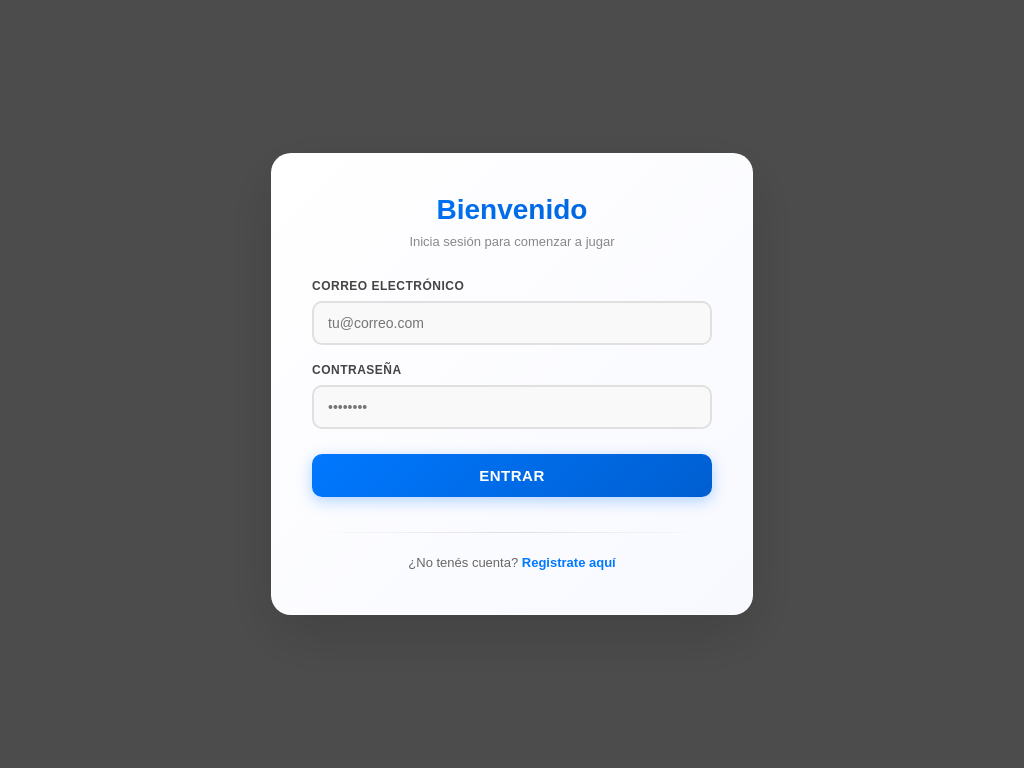
Test: ModalUsuario (Login/Registro) › muestra mensaje de error si los campos de login están vacíos al intentar iniciar sesión
The width and height of the screenshot is (1024, 768).
Click the button "Entrar" at (512, 476), box x1=312 y1=454 x2=712 y2=497
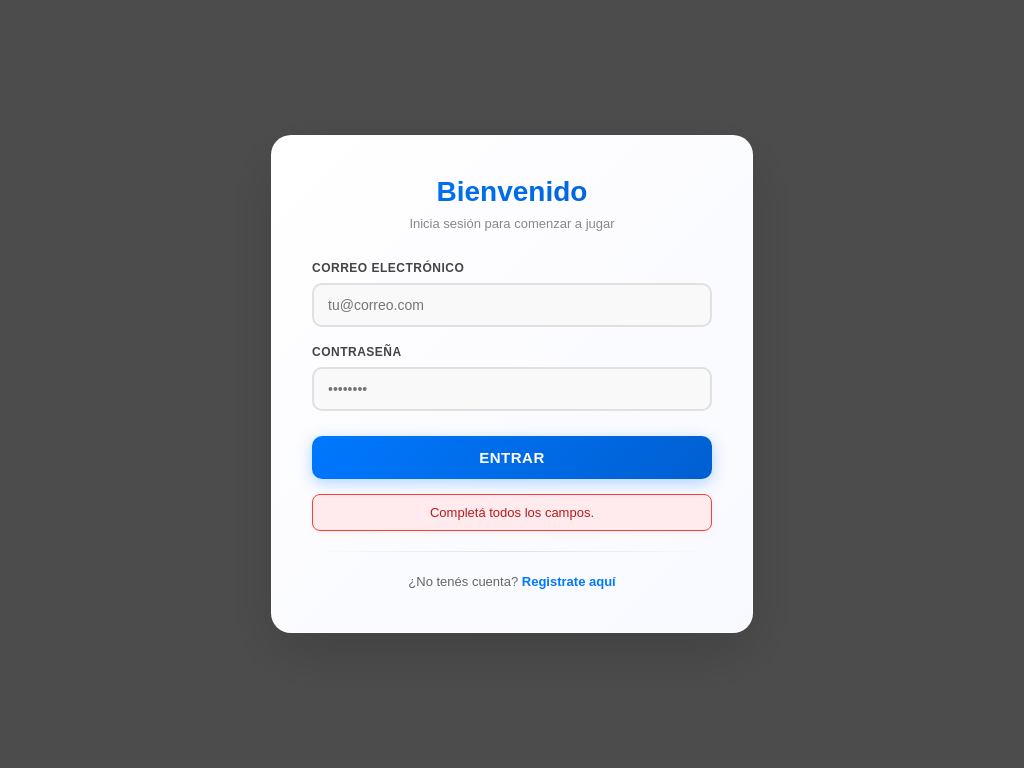
Check: the text "Completá todos los campos." is shown, box x1=312 y1=494 x2=712 y2=531
